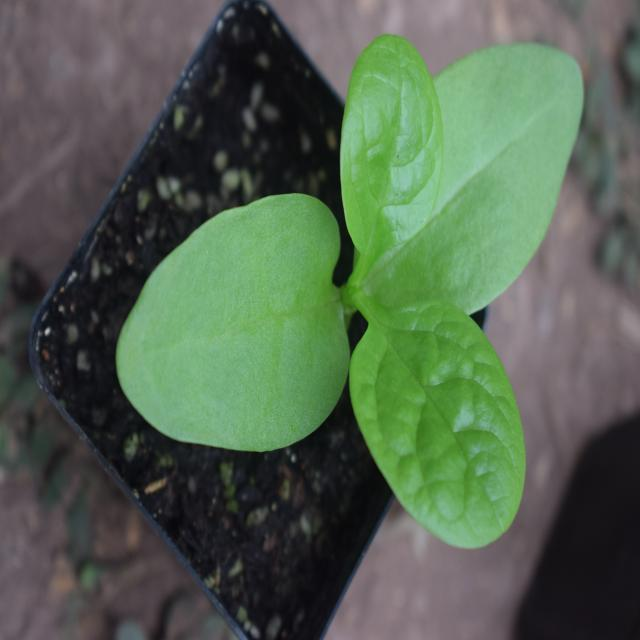Ceylon spinach: (134, 37, 574, 551)
